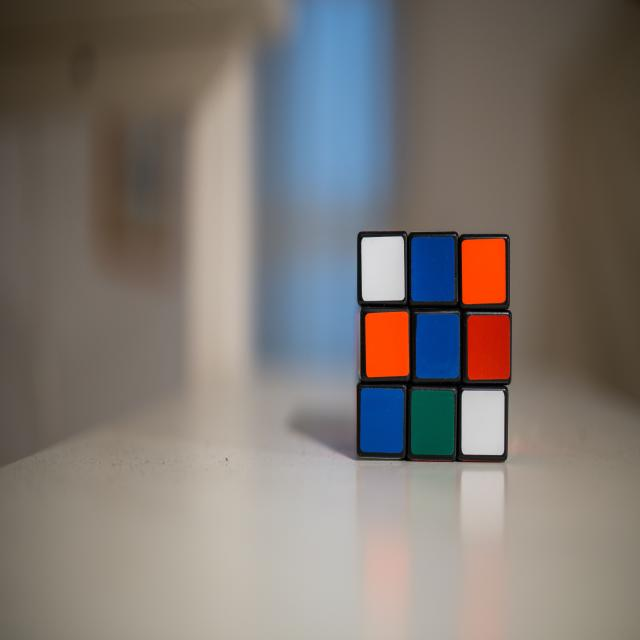Cubo-No-resuelto: (356, 230, 512, 462)
